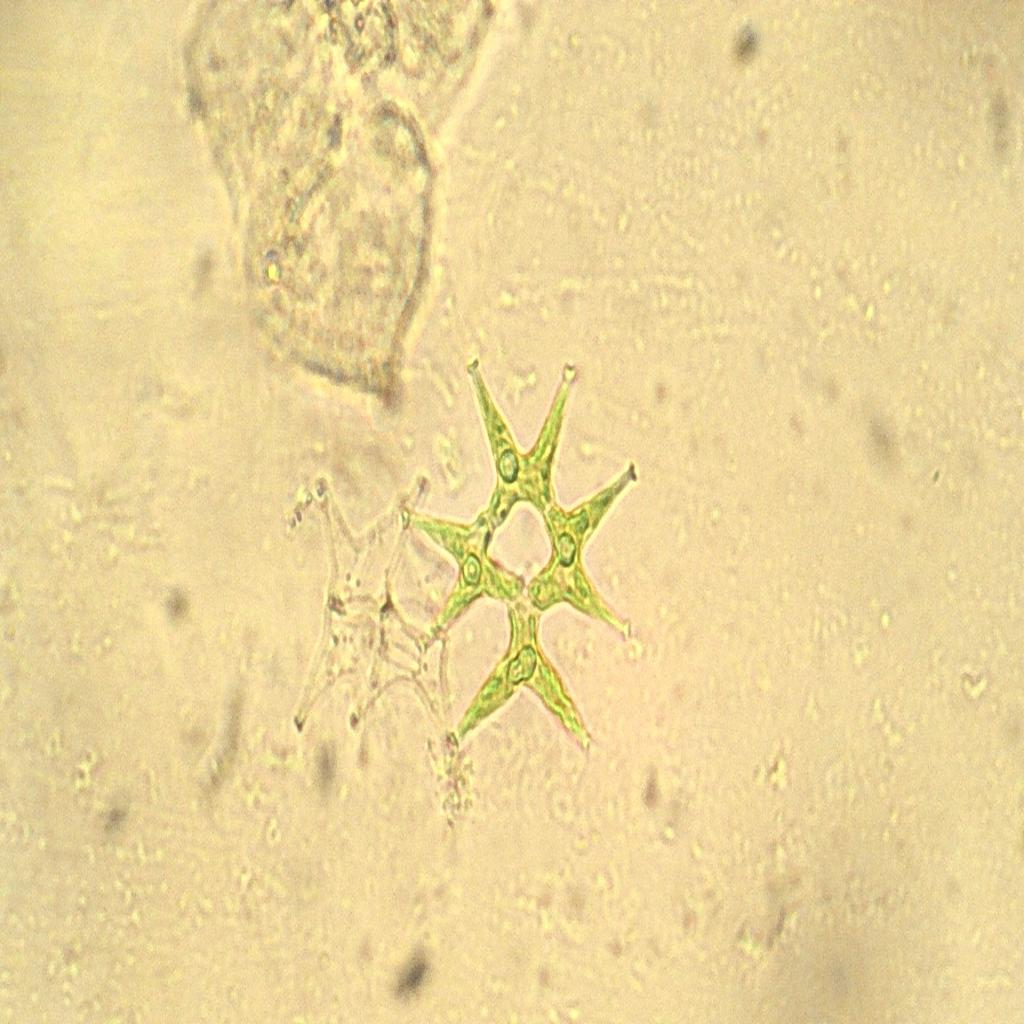Pediastrum_CT: (392, 324, 662, 786)
